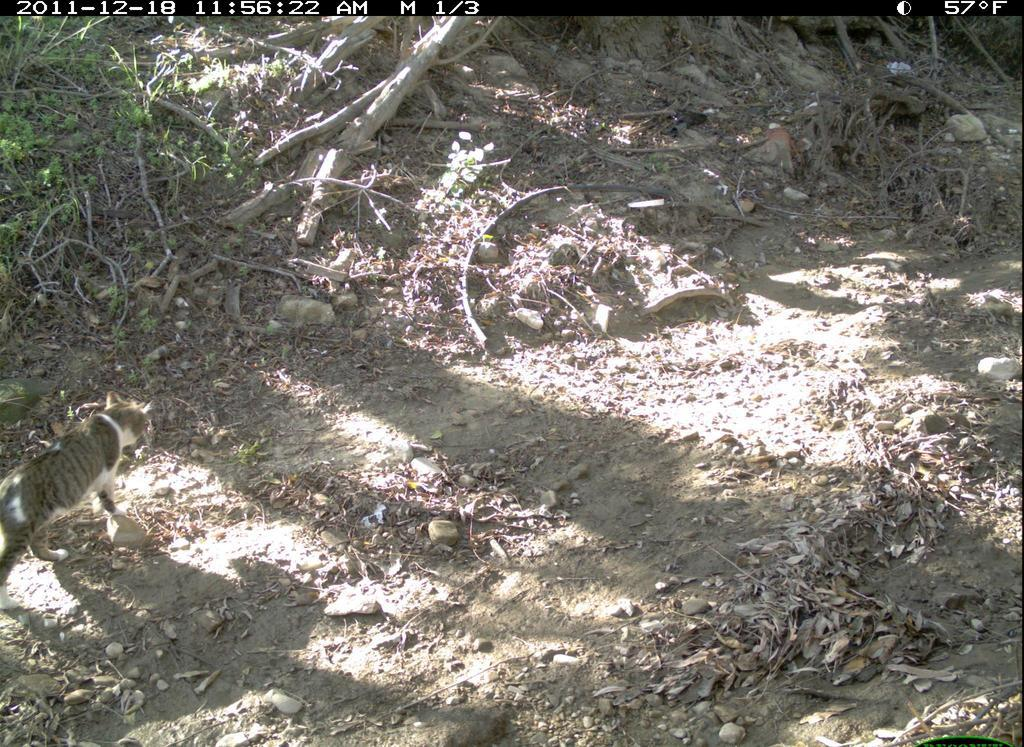cat: (4, 385, 171, 593)
